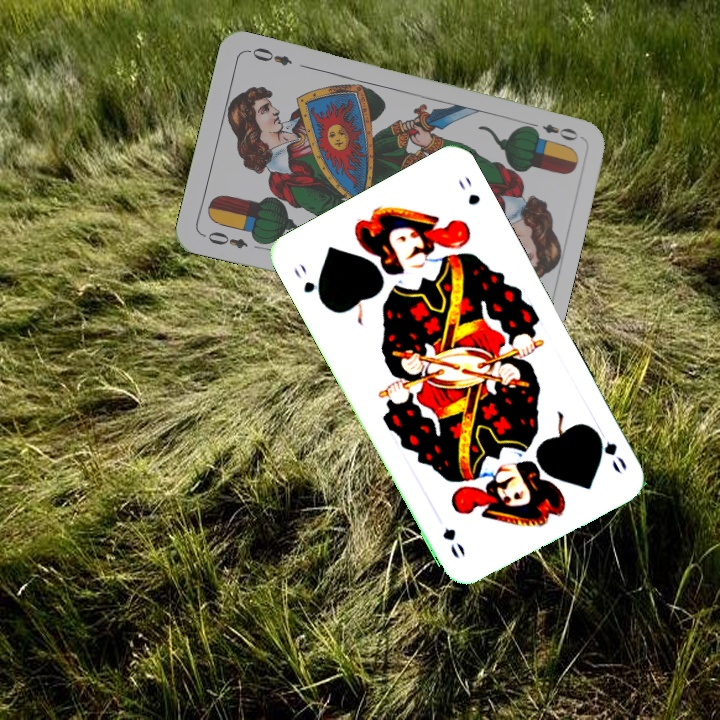EO: (523, 118, 581, 144), (199, 227, 251, 252)
GO: (588, 421, 630, 477), (289, 259, 328, 308)
